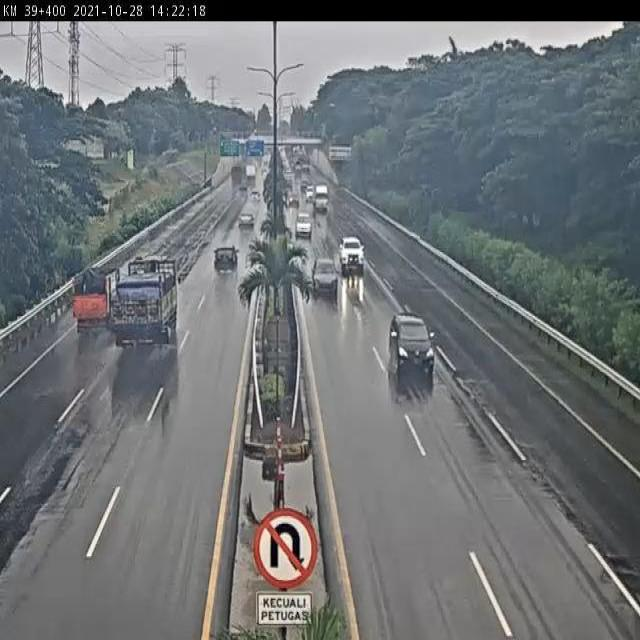ARABA: (388, 315, 437, 377), (312, 256, 340, 297), (338, 236, 365, 272), (213, 241, 239, 275), (293, 209, 312, 240), (235, 209, 256, 235)
KAMYONET: (72, 271, 116, 329)
TIR: (113, 253, 178, 347)
